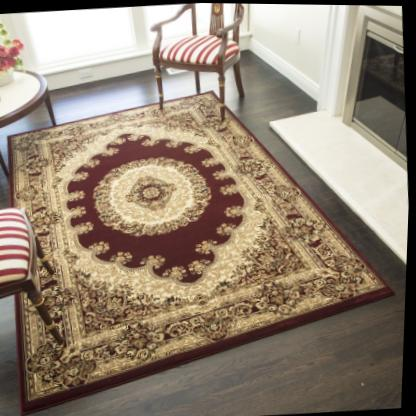Carpet: (9, 90, 395, 413)
